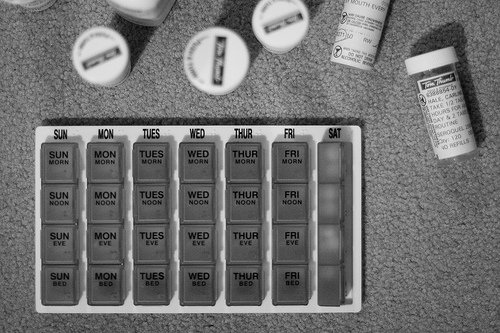pill bottle: (403, 43, 481, 162), (327, 1, 394, 71)
